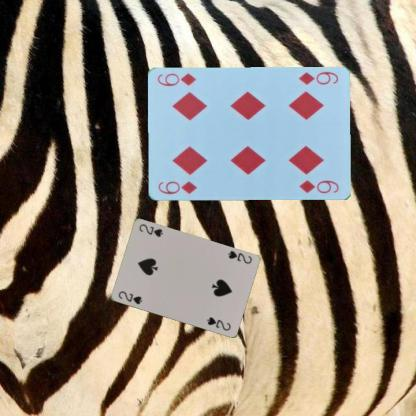2s: (225, 248, 253, 265), (116, 288, 142, 306)
6d: (296, 68, 340, 86), (156, 179, 198, 196)
